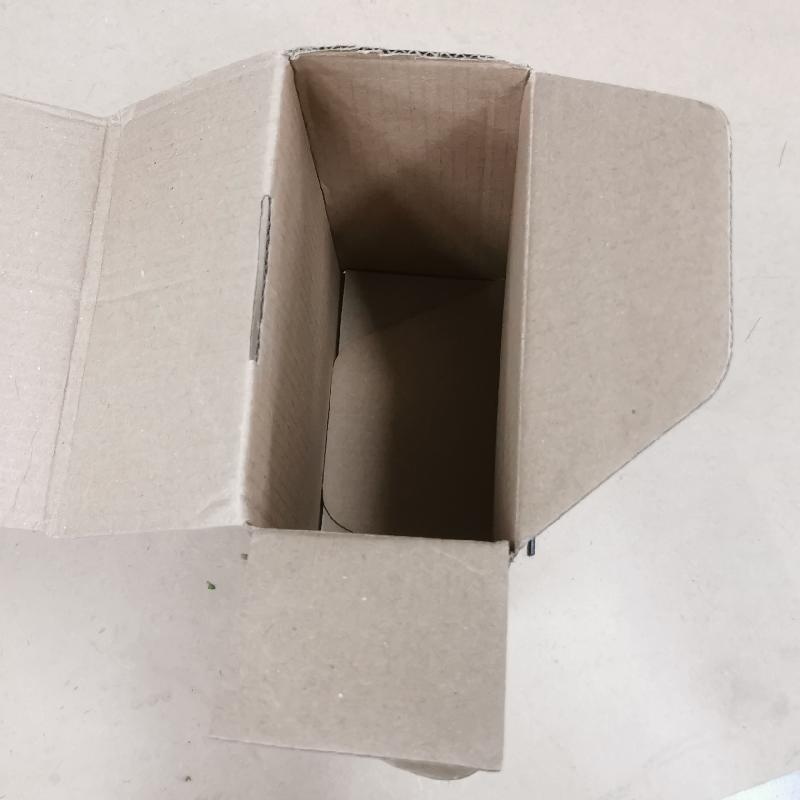boxes: (8, 30, 741, 794)
